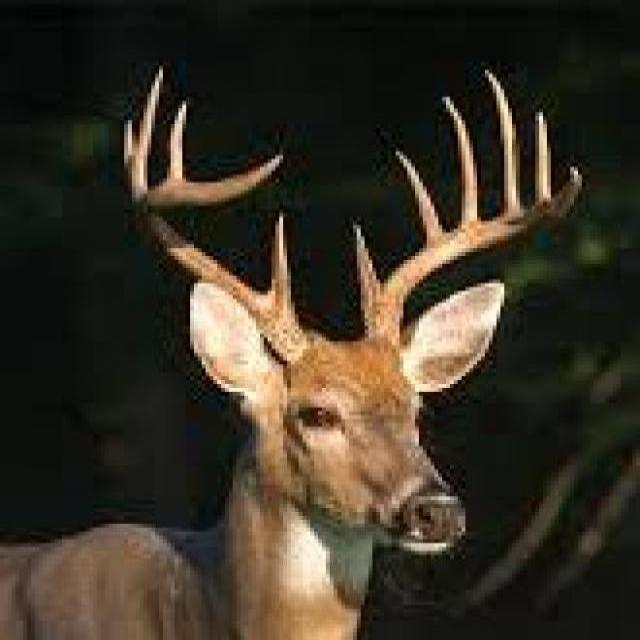deer: (8, 65, 582, 640)
